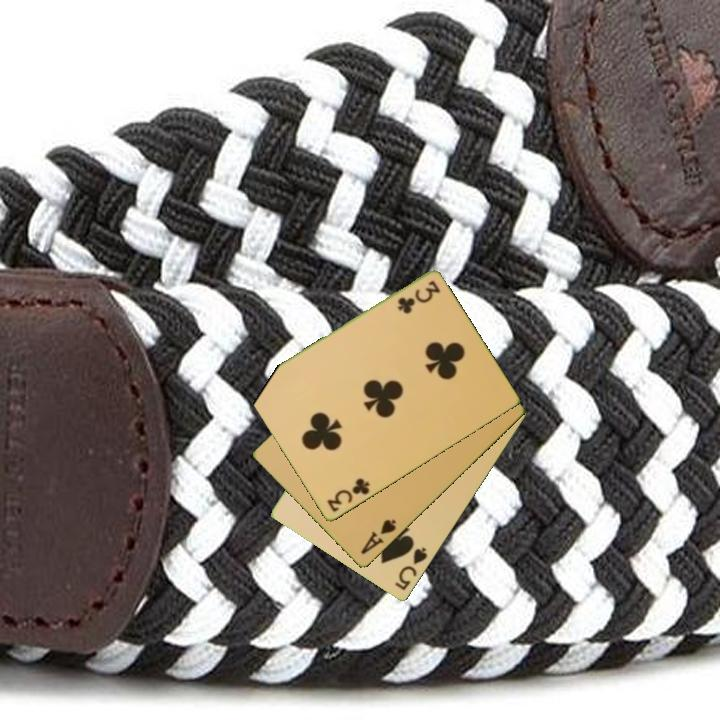3c: (323, 475, 373, 515), (394, 277, 443, 316)
5s: (391, 544, 431, 594)
As: (357, 516, 399, 558)
